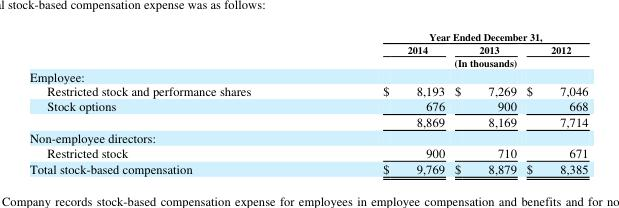table: (29, 29, 587, 176)
table column: (29, 29, 316, 176), (316, 29, 449, 176), (449, 29, 520, 176), (520, 29, 587, 176)
table column header: (29, 29, 587, 68)
table projected row header: (29, 68, 587, 83), (29, 129, 587, 144)
table row: (29, 113, 587, 129), (29, 144, 587, 160), (29, 160, 587, 176), (29, 68, 587, 83), (29, 83, 587, 98), (29, 98, 587, 113), (29, 129, 587, 144), (29, 29, 587, 42), (29, 42, 587, 55), (29, 55, 587, 68)
table spanning cell: (316, 29, 587, 42), (316, 55, 587, 68)
